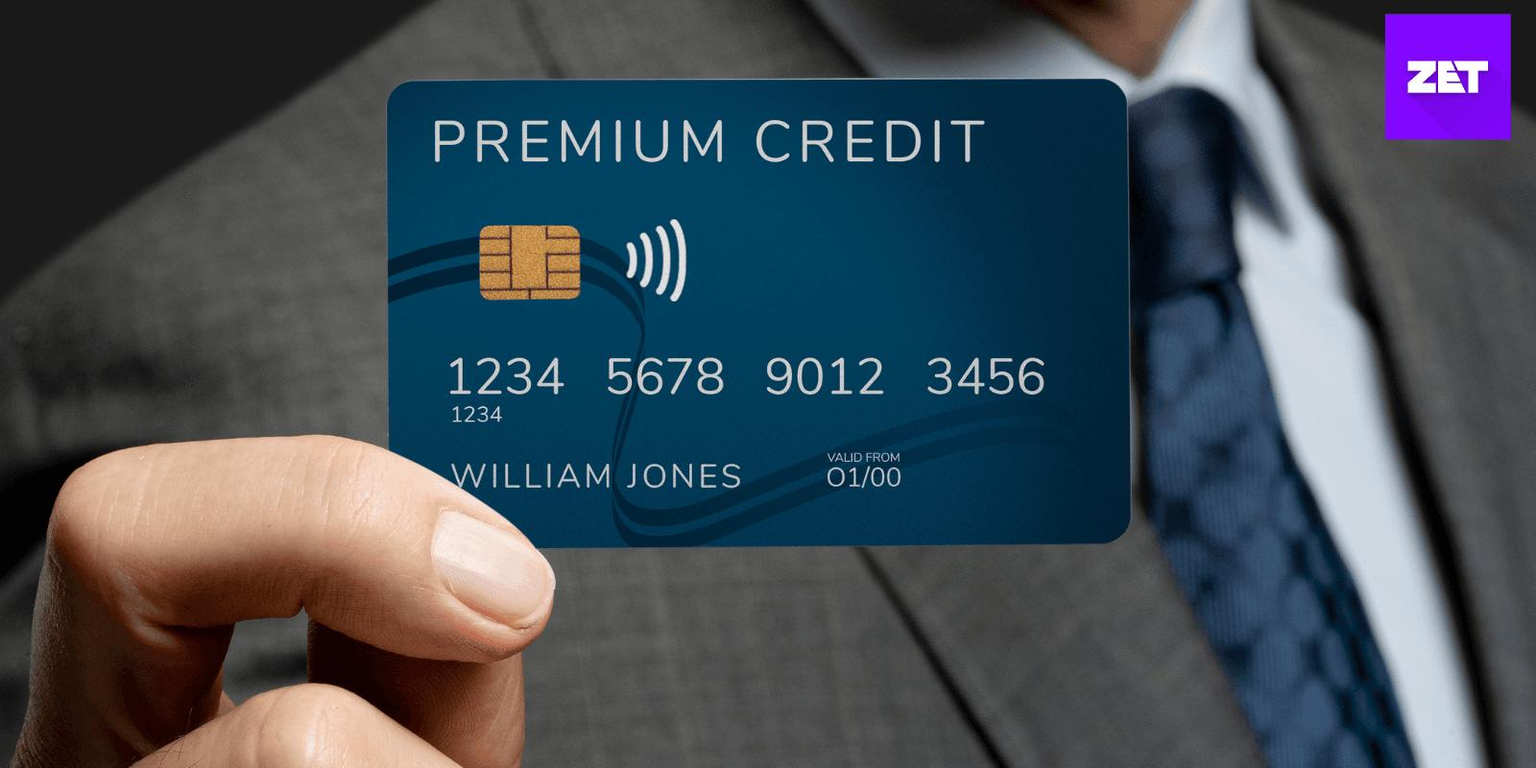Credit_card: (389, 80, 1130, 546)
